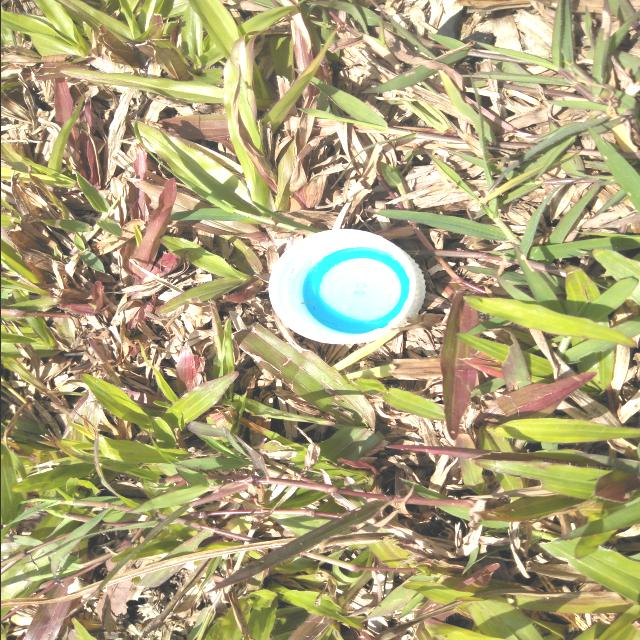Plastic bottle cap: (268, 229, 425, 344)
